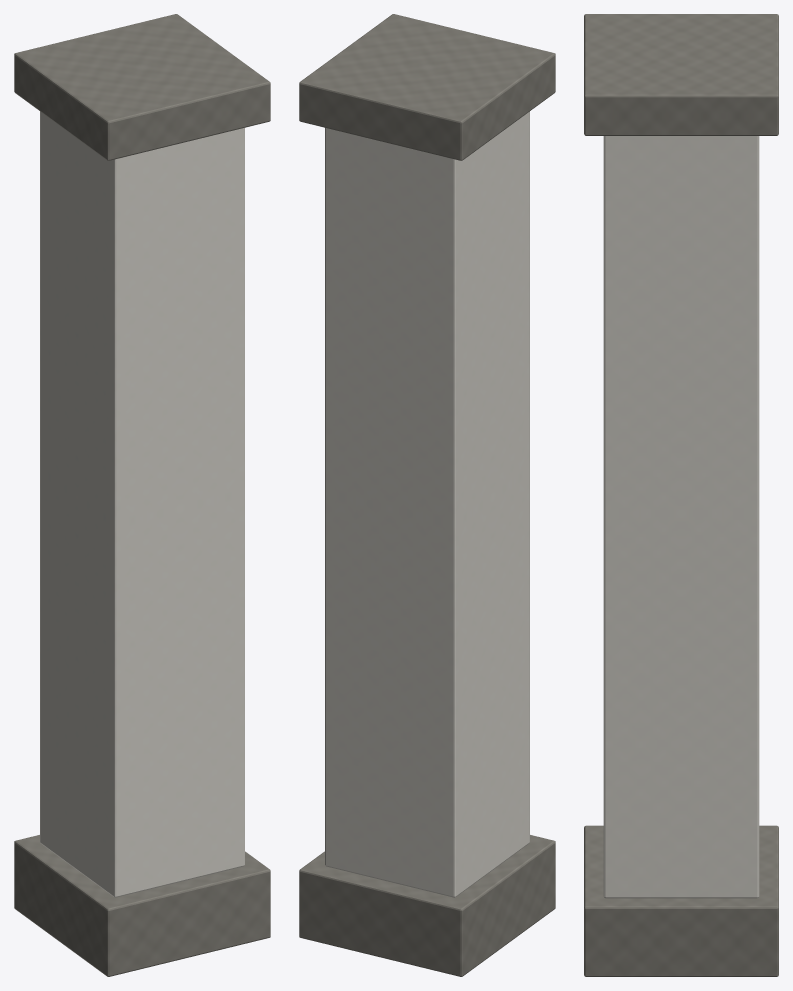
Rendered from MH_Fence_Pier1p5m.fbx.
The picture shows the model from 3 angles, left to right: view 1: azimuth 30°, elevation 25°; view 2: azimuth 150°, elevation 25°; view 3: azimuth 270°, elevation 25°; orthographic projection. The views are drawn at different scales.
Parts seen in each view (by area): view 1: Body; view 2: Body; view 3: Body.
Part boxes in pixels (<box>): Body: <box>14,14,270,976</box>; Body: <box>299,14,555,976</box>; Body: <box>584,14,778,976</box>.
Bounding box in the file's own units: 0.3 × 1.5 × 0.3.
